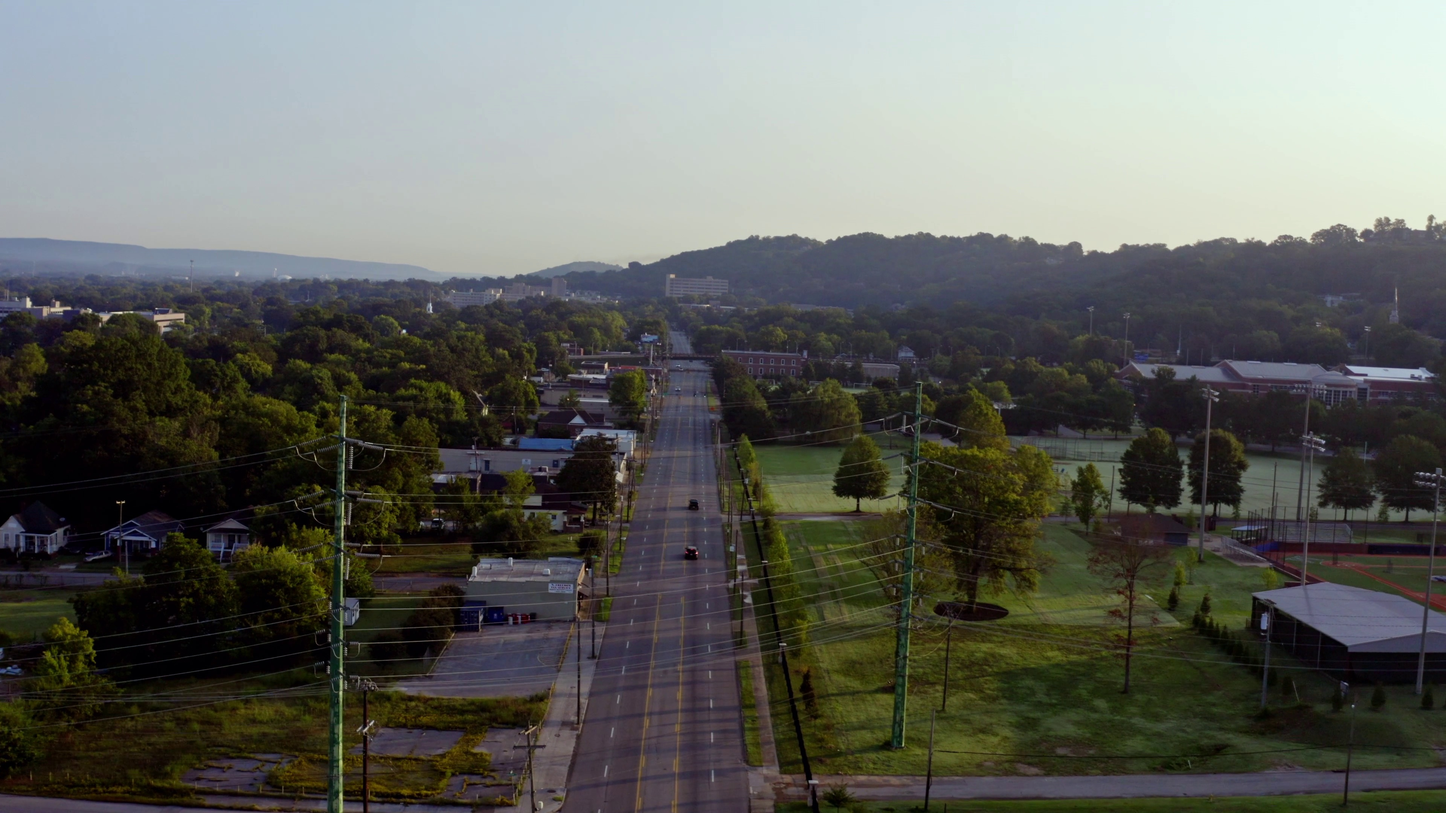Vehicle: (83, 550, 114, 563), (684, 546, 699, 560), (430, 518, 445, 529), (688, 499, 699, 510), (675, 387, 681, 391), (675, 364, 681, 367), (680, 368, 683, 371)
